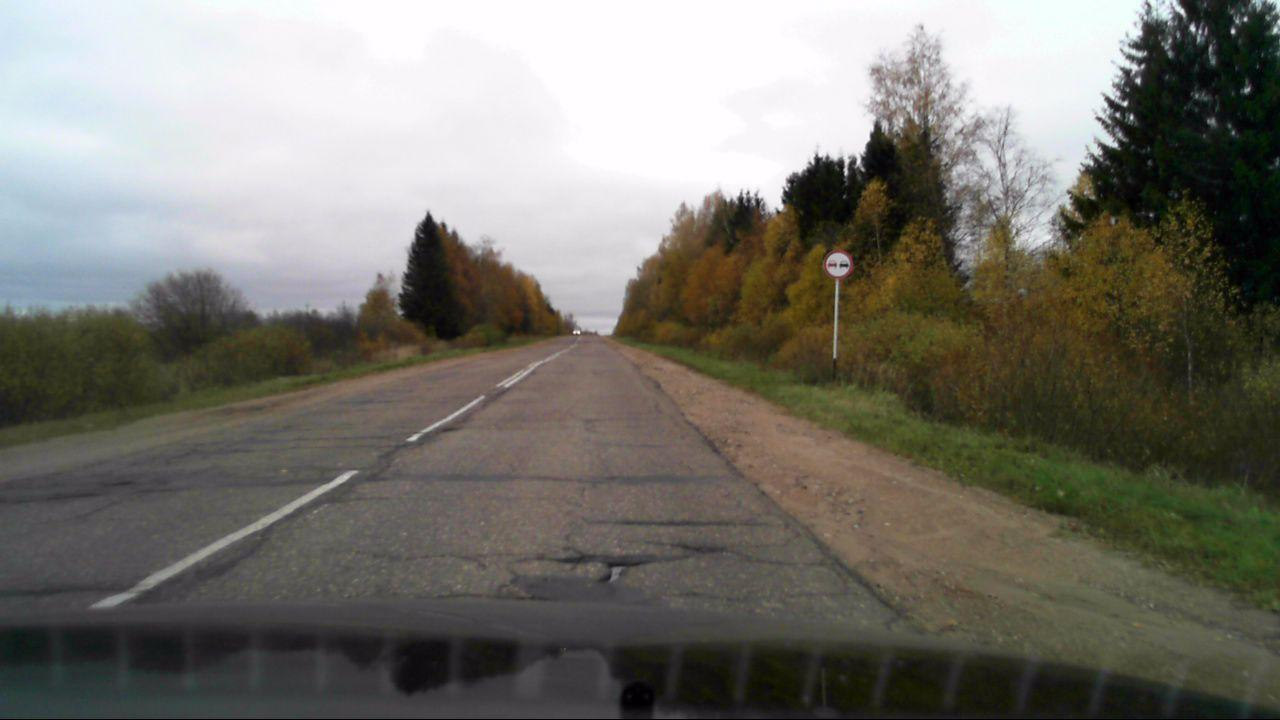pothole: (599, 561, 647, 584)
road_sign: (823, 249, 854, 281)
